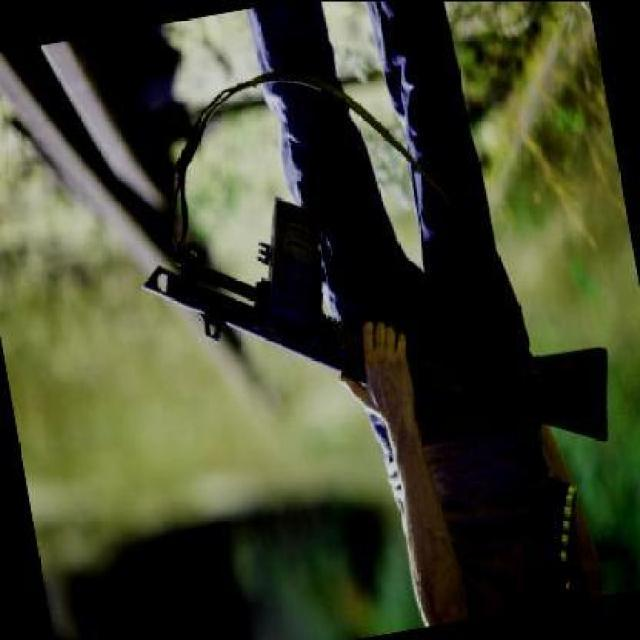rifle: (134, 142, 617, 478)
